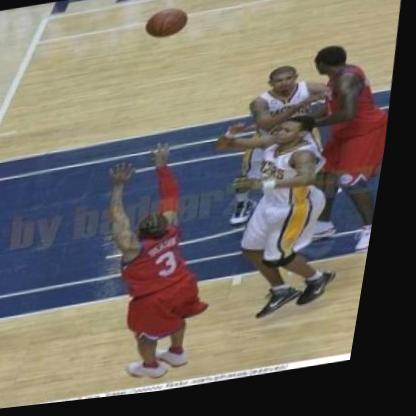basketball: (141, 4, 195, 49)
